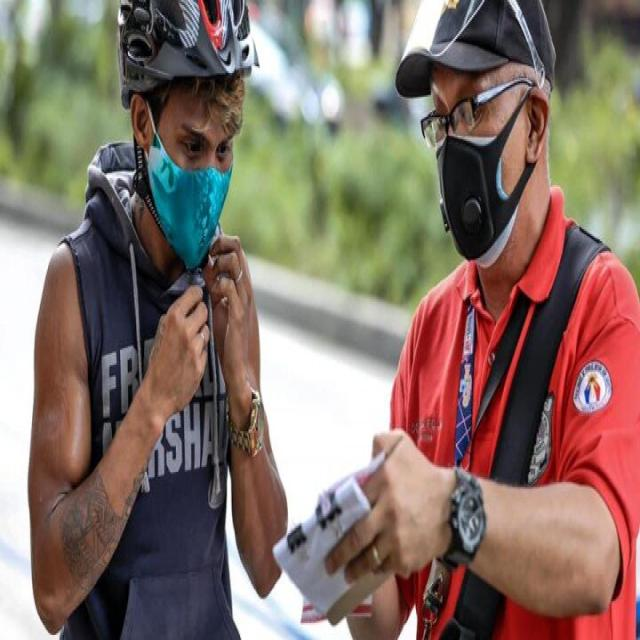illegal_helmet: (392, 0, 560, 268), (112, 0, 262, 275)
